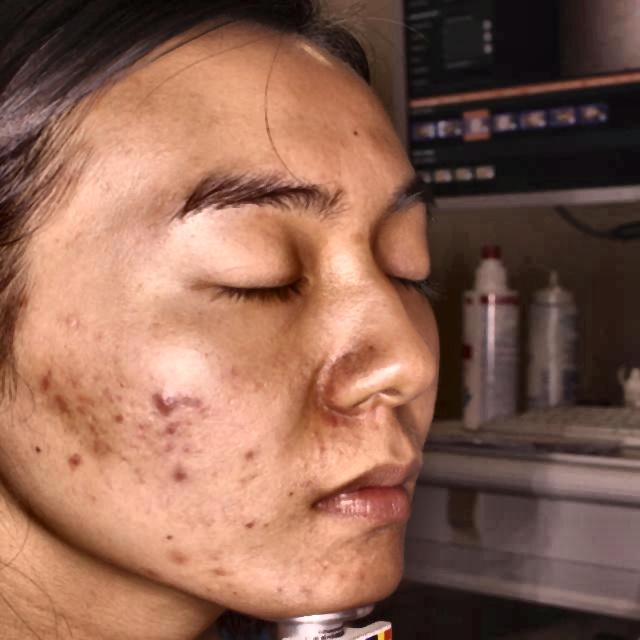pustule: (142, 372, 196, 412), (89, 422, 131, 465), (234, 438, 268, 488), (49, 385, 89, 424), (158, 547, 189, 583), (161, 455, 202, 479), (65, 452, 93, 485), (152, 417, 184, 442), (34, 362, 52, 384)
